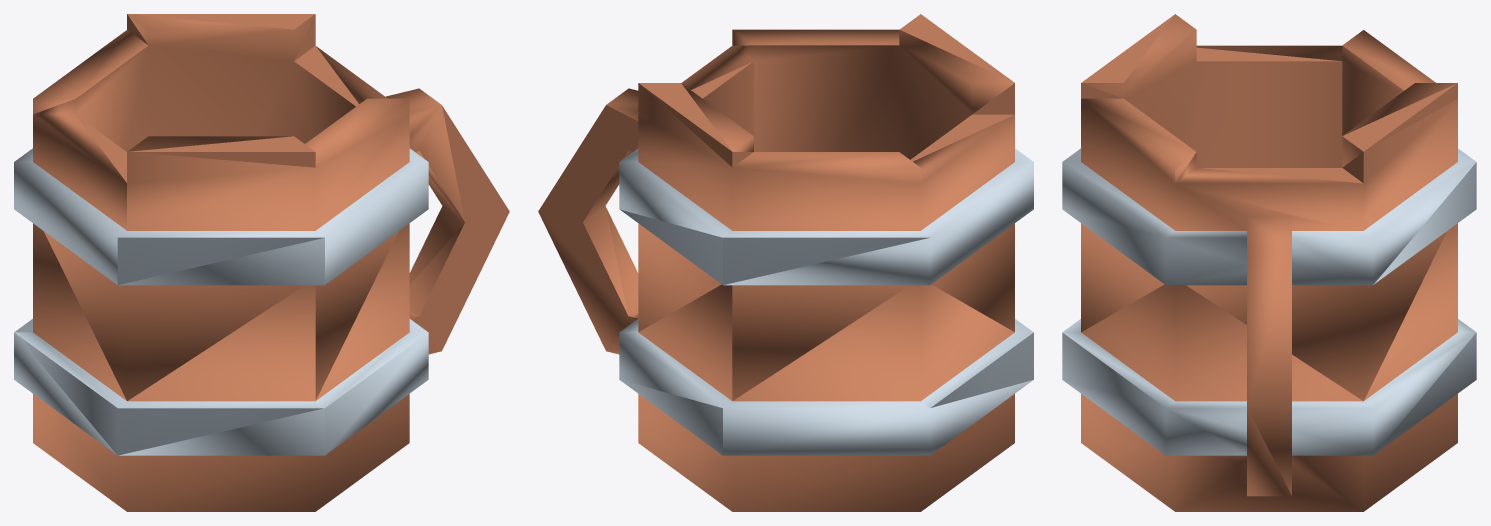
Rendered from mug.glb.
The picture shows the model from 3 angles, left to right: view 1: azimuth 30°, elevation 25°; view 2: azimuth 150°, elevation 25°; view 3: azimuth 270°, elevation 25°; orthographic projection.
Visible parts, largest first — view 1: mug; view 2: mug; view 3: mug.
Boxes of the visible parts, <box> form: mug: <box>14,14,509,511</box>; mug: <box>538,14,1033,511</box>; mug: <box>1062,14,1476,511</box>.
Bounding box in the file's own units: 0.1 × 0.0795 × 0.083.
